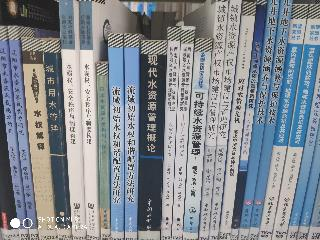book-spine: (268, 4, 320, 240), (258, 4, 306, 239), (246, 1, 292, 240), (216, 3, 256, 239), (238, 1, 277, 239), (230, 1, 266, 239), (207, 0, 241, 240), (197, 0, 229, 239), (22, 37, 57, 240), (7, 26, 38, 239), (135, 41, 166, 239), (60, 1, 85, 240), (0, 27, 28, 240), (43, 39, 71, 240), (183, 39, 210, 238), (79, 2, 99, 240), (171, 28, 193, 239), (161, 29, 179, 237), (109, 35, 123, 239), (126, 35, 139, 238), (97, 63, 109, 239)
